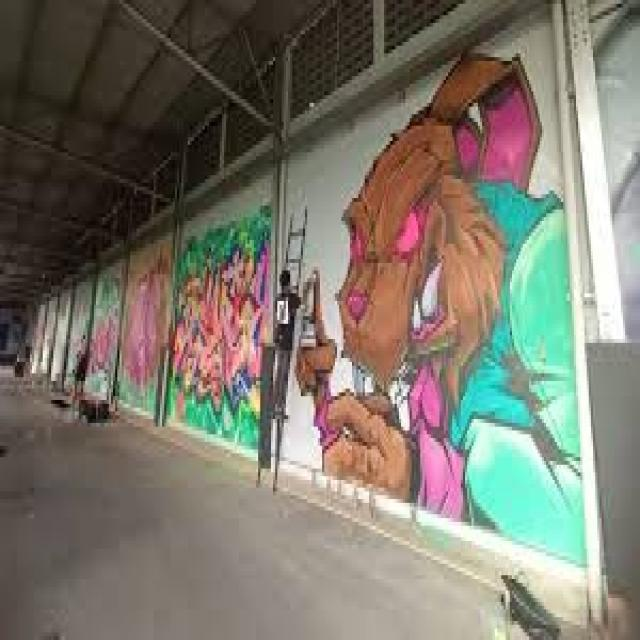-: (296, 42, 589, 574), (171, 201, 268, 451), (118, 236, 164, 414), (85, 272, 116, 402)
